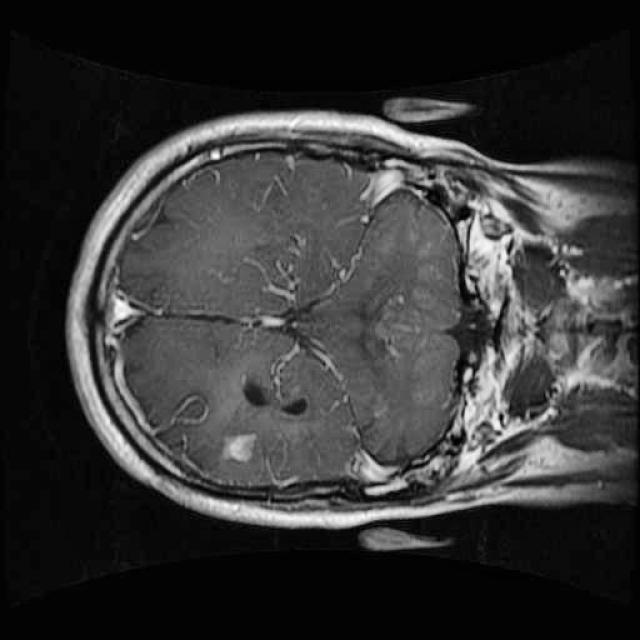Non-Tumor: (210, 410, 283, 474)
